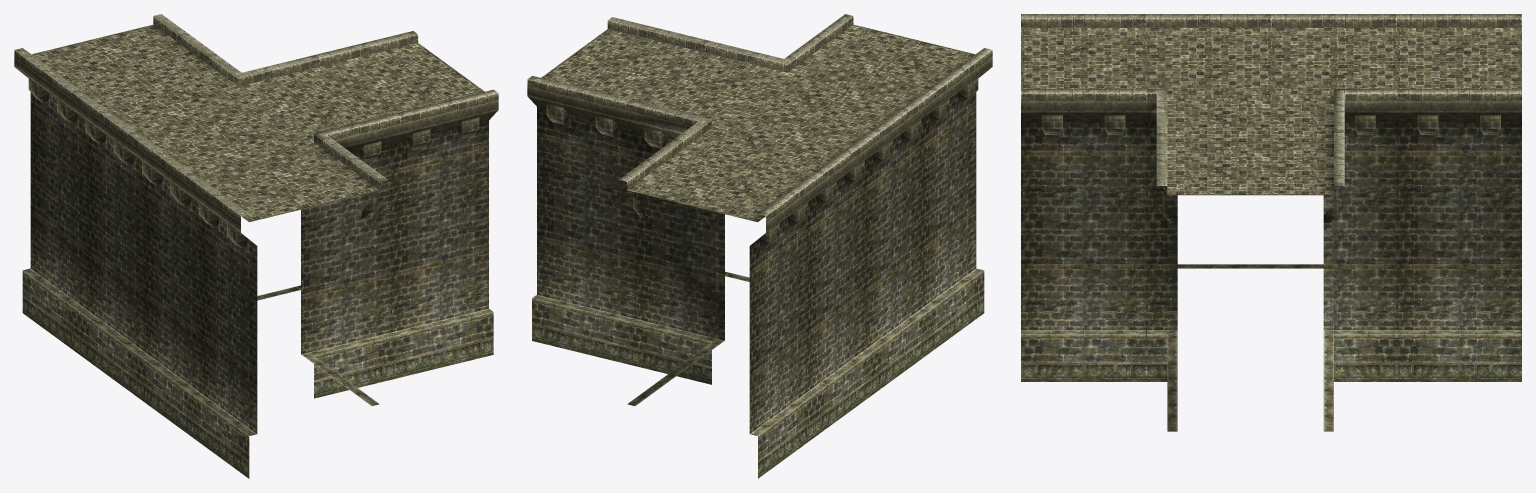
Rendered from OZ_30_kn_castle01U.glb.
3 renders of one model, left to right at view 1: azimuth 30°, elevation 25°; view 2: azimuth 150°, elevation 25°; view 3: azimuth 270°, elevation 25°, orthographic. The views are drawn at different scales.
Parts seen in each view (by area): view 1: OM_30_kn_castle01U; view 2: OM_30_kn_castle01U; view 3: OM_30_kn_castle01U.
Part boxes in pixels (left/top/right/bottom): OM_30_kn_castle01U: left=14, top=14, right=498, bottom=478; OM_30_kn_castle01U: left=527, top=14, right=992, bottom=478; OM_30_kn_castle01U: left=1021, top=14, right=1521, bottom=431.
Bounding box in the file's own units: 19.5 × 15.5 × 24.
Materials: 2 (2 with a texture image).
